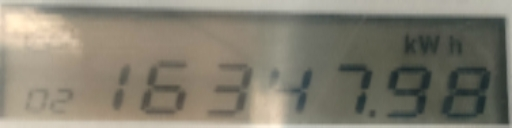1: (107, 52, 133, 113)
3: (206, 58, 259, 125)
4: (265, 56, 317, 125)
6: (135, 49, 193, 121)
7: (331, 54, 374, 126)
8: (437, 62, 494, 126)
9: (387, 63, 433, 125)
d: (366, 105, 381, 121)
